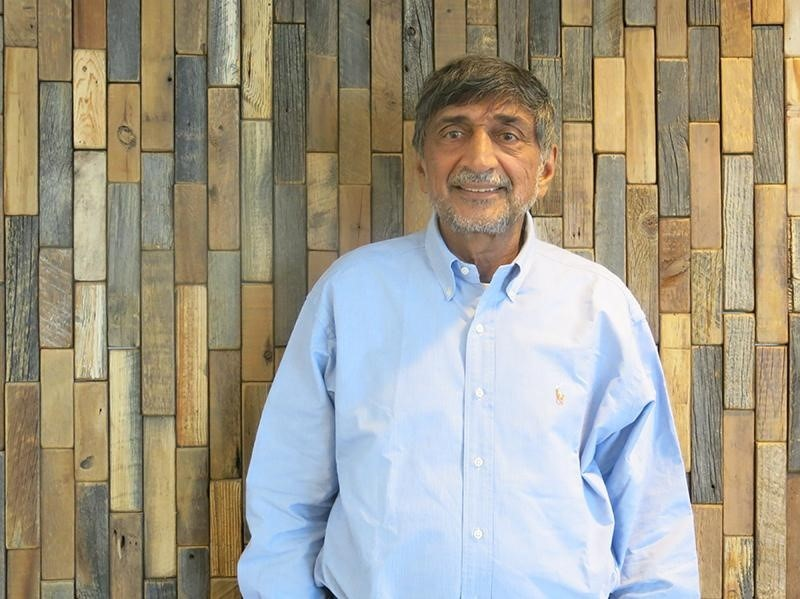face_no_mask: (417, 56, 559, 233)
